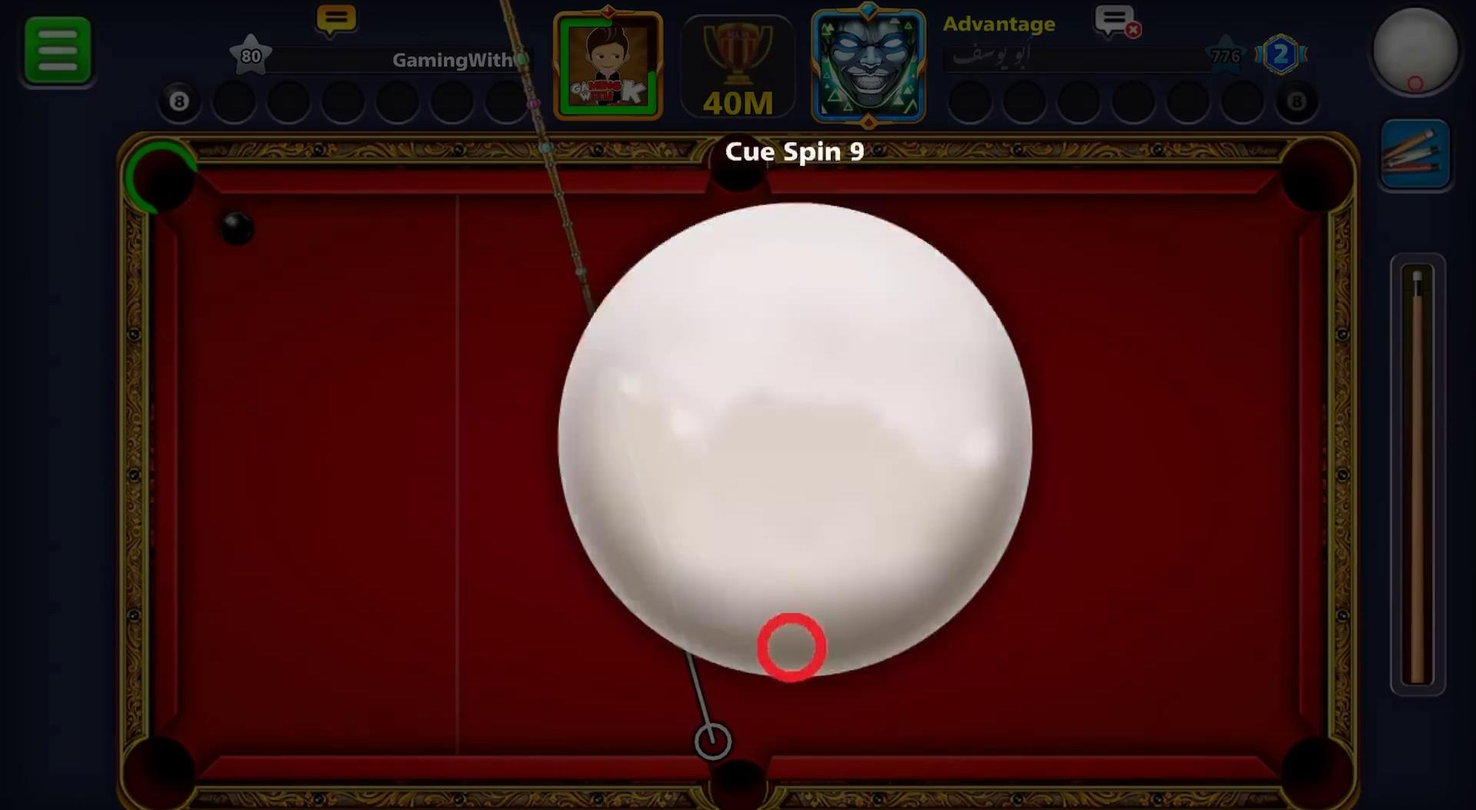Ball: (218, 211, 257, 247)
Force: (1388, 255, 1450, 710)
Hole: (1259, 111, 1369, 232), (1252, 712, 1371, 809), (698, 116, 775, 210), (694, 739, 779, 809), (122, 734, 198, 808), (123, 140, 198, 212)
Play_Area: (178, 192, 1314, 754)
Spin: (551, 199, 1039, 687), (1361, 2, 1474, 110)
